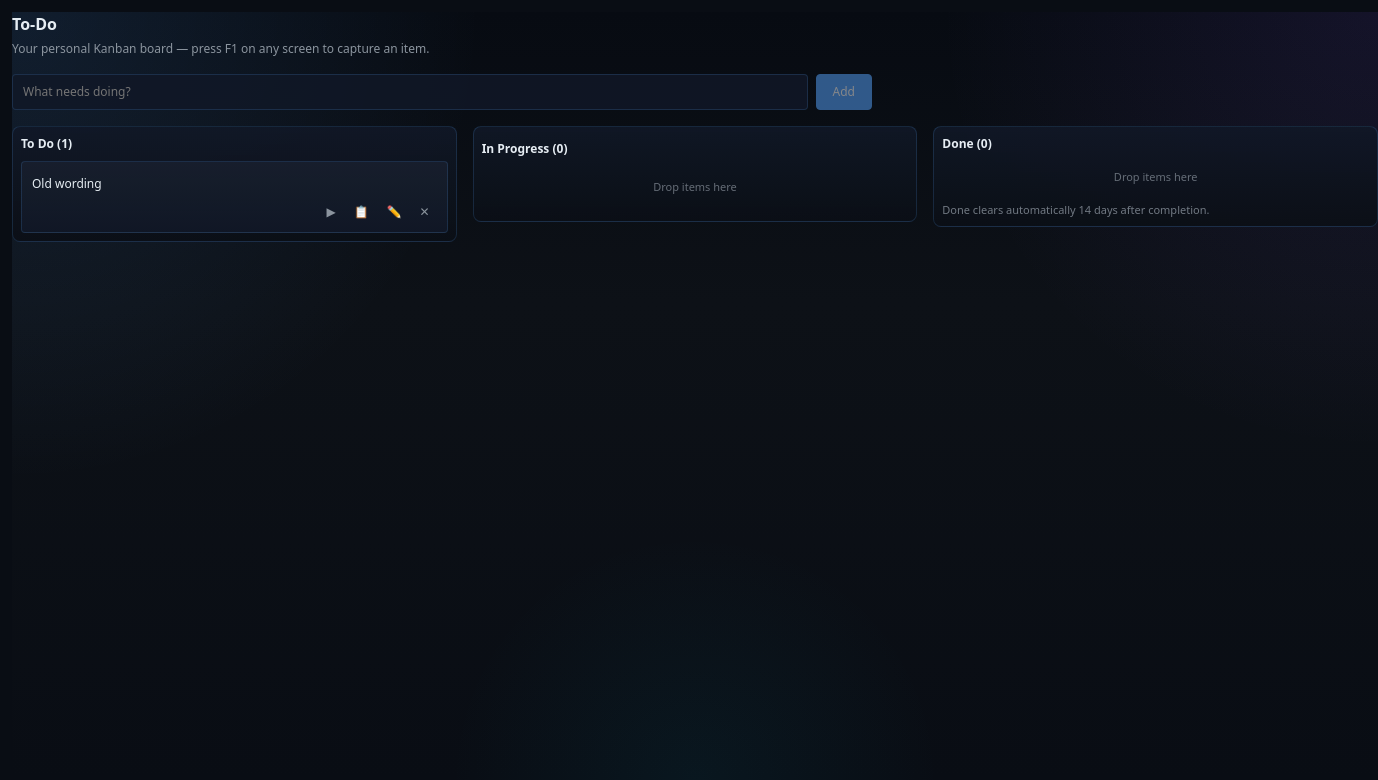
TodoTab › edits a card inline and saves on Enter
Click the button named "edit \"old wording\"" at (394,212), box [380,200,409,224]
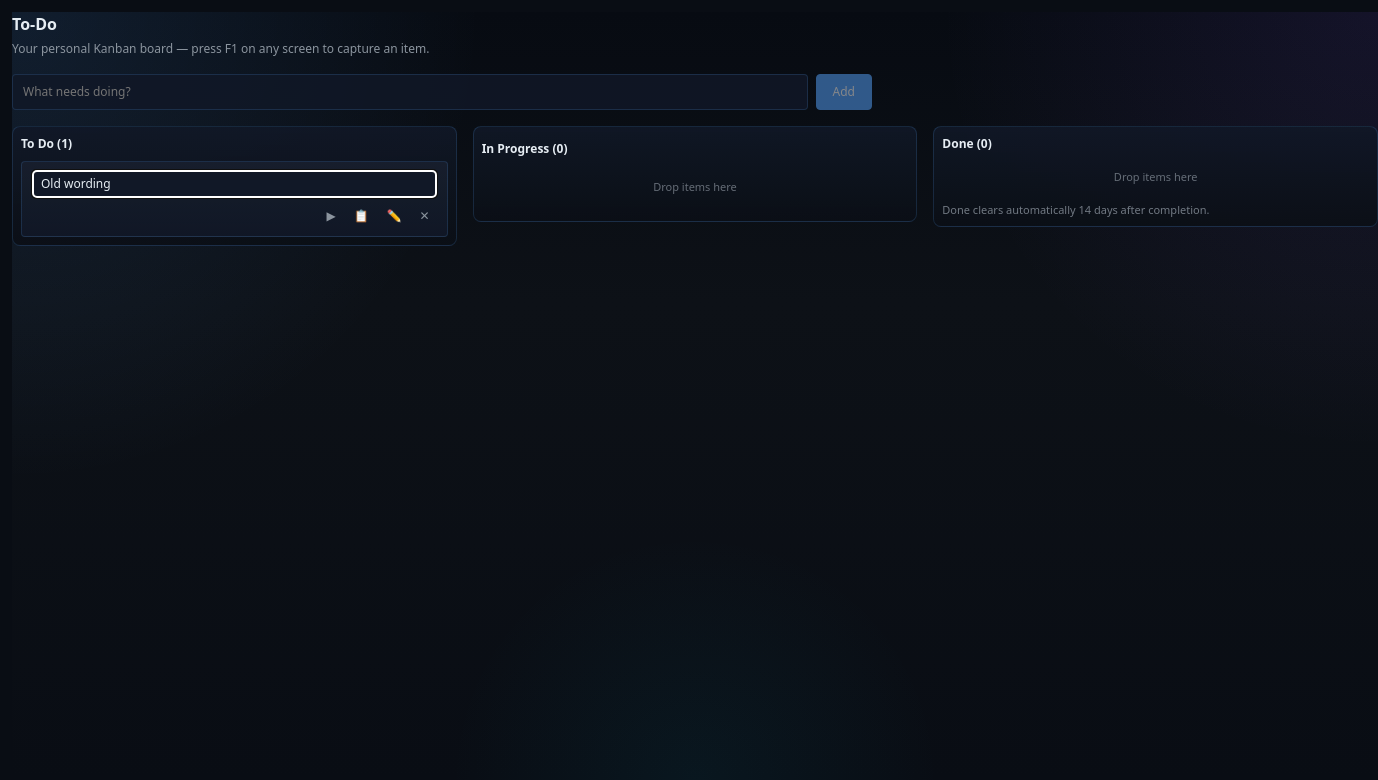
Replace the text in the field named "edit to-do item" with "New wording" at (234,184), box [32,170,437,198]
Then press Enter
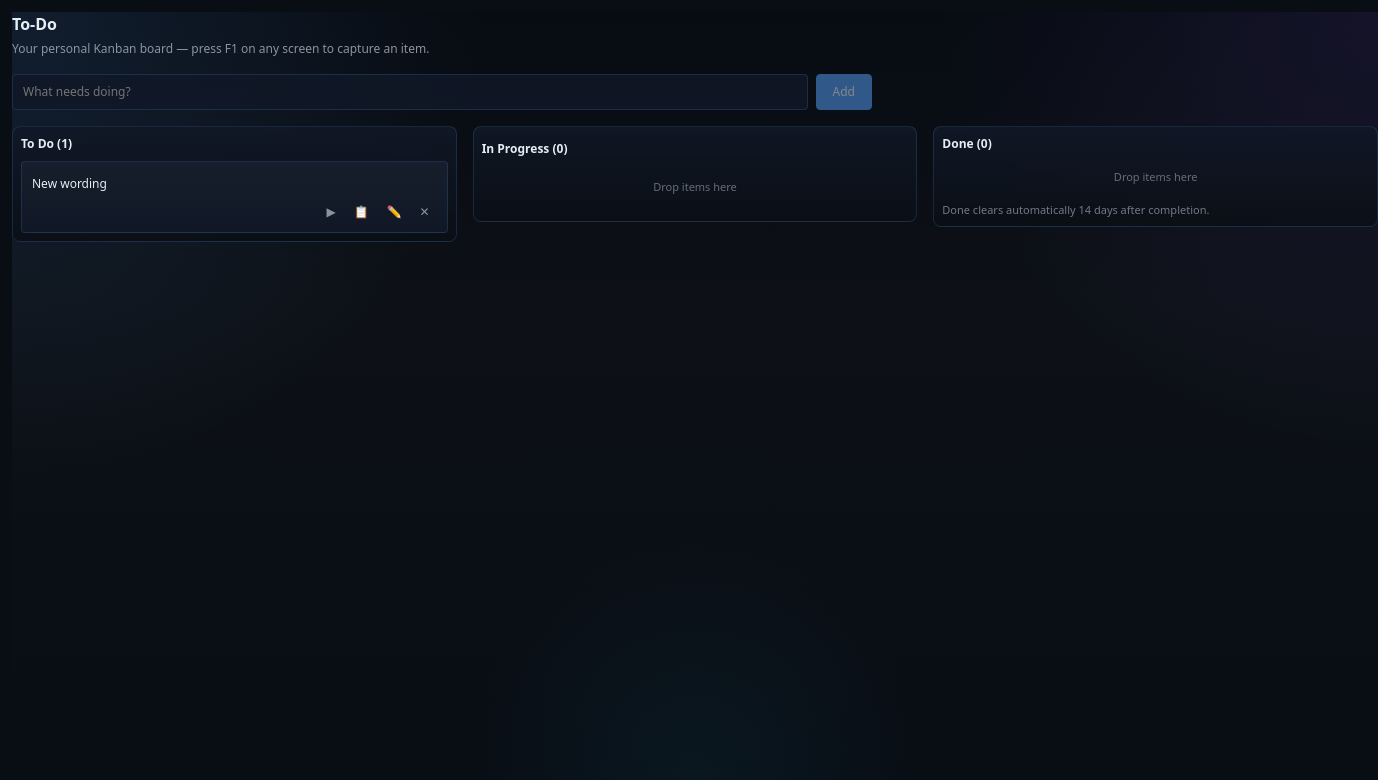
Check: the text "New wording" is shown, box [32,175,107,192]
